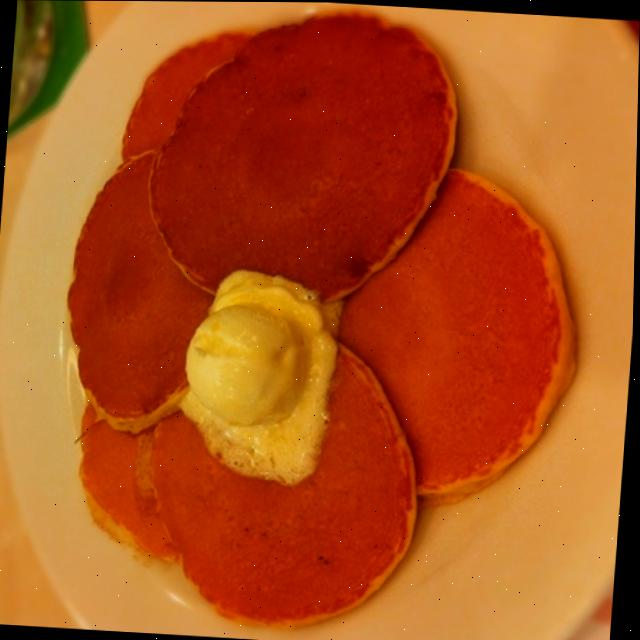蛋糕甜品: (13, 8, 597, 617)
